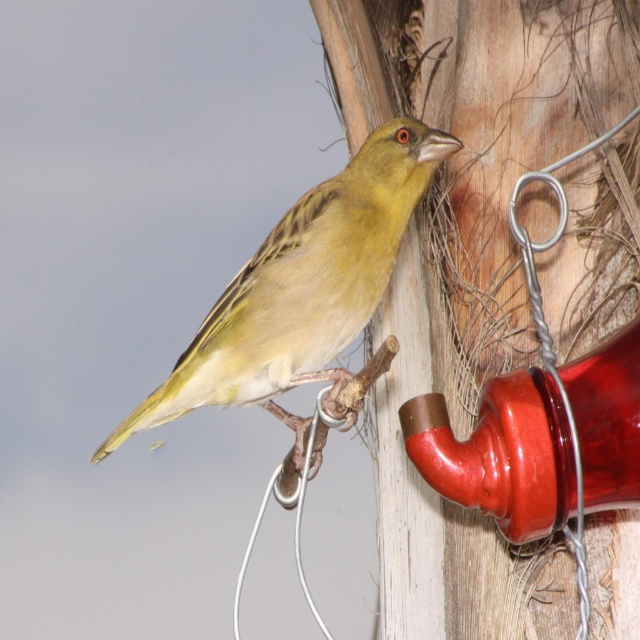Canary: (87, 114, 467, 507)
